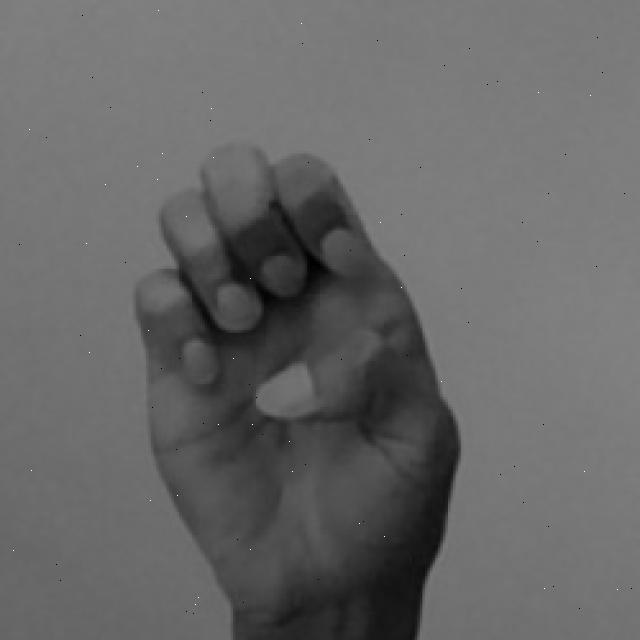E: (128, 141, 463, 640)
